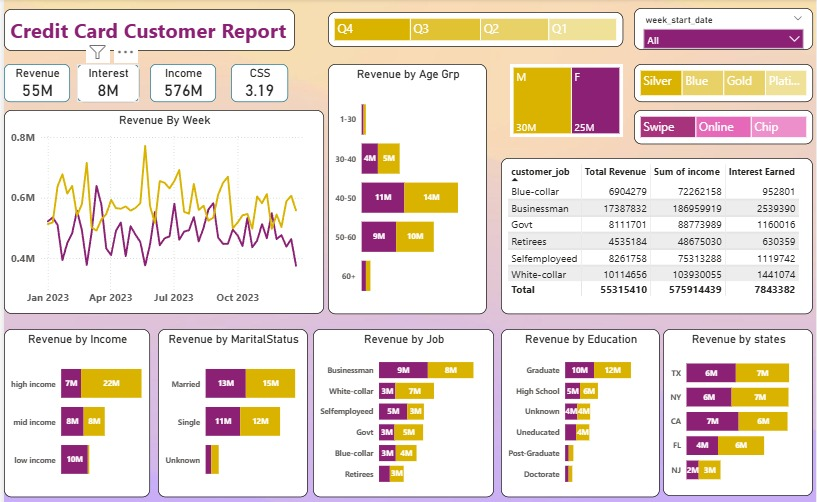

This screenshot's page, from the dashboard's own definition file:
{"tool":"powerbi","page":{"name":"CC customer","canvas":[1280,800],"ordinal":1},"visuals":[{"type":"textbox","box":[0,15.7,458.3,66.1],"z":0},{"type":"barChart","title":" Revenue by Income","fields":{"Y":["Sum(public cc_detail.Revenue)"],"Category":["public cust_detail.income group"],"Series":["public cust_detail.gender"]},"box":[0,519.7,229.9,264.6],"z":1000},{"type":"tableEx","fields":{"Values":["public cust_detail.customer_job","Sum(public cc_detail.Revenue)","Sum(public cust_detail.income)","Sum(public cc_detail.interest_earned)"]},"box":[782.7,250.4,491.3,245.7],"z":2000},{"type":"card","title":"Revenue","fields":{"Values":["Sum(public cc_detail.Revenue)"]},"box":[0,102.4,103.9,59.8],"z":3000},{"type":"card","title":" Interest","fields":{"Values":["Sum(public cc_detail.interest_earned)"]},"box":[115,102.4,97.6,59.8],"z":4000},{"type":"card","title":"Income","fields":{"Values":["Sum(public cust_detail.income)"]},"box":[229.9,102.4,103.9,59.8],"z":5000},{"type":"card","title":"CSS","fields":{"Values":["Avg(public cust_detail.cust_satisfaction_score)"]},"box":[357.5,102.4,89.8,59.8],"z":6000},{"type":"slicer","fields":{"Values":["public cc_detail.week_start_date"]},"box":[992.1,14.2,281.9,66.1],"z":7000},{"type":"treemap","fields":{"Group":["public cc_detail.qtr"],"Values":["Avg(public cc_detail.client_num)"]},"box":[510.2,20.5,464.6,55.1],"z":8000},{"type":"treemap","fields":{"Values":["Avg(public cc_detail.client_num)"],"Group":["public cc_detail.card_category"]},"box":[992.1,102.4,281.9,59.8],"z":10000},{"type":"lineChart","title":" Revenue By Week","fields":{"Y":["Sum(public cc_detail.Revenue)"],"Series":["public cust_detail.gender"],"Category":["public cc_detail.week_start_date.Variation.Date Hierarchy.Year","public cc_detail.week_start_date.Variation.Date Hierarchy.Month","public cc_detail.week_start_date.Variation.Date Hierarchy.Day"]},"box":[0,174.8,503.9,321.3],"z":11001},{"type":"treemap","fields":{"Group":["public cust_detail.gender"],"Values":["Sum(public cc_detail.Revenue)"]},"box":[796.9,102.4,178,115],"z":11002},{"type":"barChart","title":" Revenue by Age Grp","fields":{"Y":["Sum(public cc_detail.Revenue)"],"Category":["public cust_detail.AgeGroup"],"Series":["public cust_detail.gender"]},"box":[510.2,102.4,250.4,393.7],"z":11003},{"type":"barChart","title":" Revenue by Job","fields":{"Y":["Sum(public cc_detail.Revenue)"],"Category":["public cust_detail.customer_job"],"Series":["public cust_detail.gender"]},"box":[486.6,519.7,285,264.6],"z":11004},{"type":"barChart","title":" Revenue by Education","fields":{"Y":["Sum(public cc_detail.Revenue)"],"Category":["public cust_detail.education_level"],"Series":["public cust_detail.gender"]},"box":[782.7,519.7,250.4,264.6],"z":11005},{"type":"barChart","title":" Revenue by states","fields":{"Y":["Sum(public cc_detail.Revenue)"],"Category":["public cust_detail.state_cd"],"Series":["public cust_detail.gender"]},"box":[1037.8,519.7,236.2,263],"z":11006},{"type":"barChart","title":" Revenue by MaritalStatus","fields":{"Y":["Sum(public cc_detail.Revenue)"],"Category":["public cust_detail.marital_status"],"Series":["public cust_detail.gender"]},"box":[242.5,519.7,236.2,264.6],"z":11007},{"type":"treemap","fields":{"Group":["public cc_detail.use_chip"],"Values":["Avg(public cc_detail.client_num)"]},"box":[992.1,174.8,281.9,53.5],"z":11008}]}

Visuals, with their boxes in screenshot pixels (x1, y1, x2, y2), scaled from the page's 1280x800 canvas onto the 817x502 screenshot:
textbox: x1=0, y1=10, x2=293, y2=51
" Revenue by Income" barChart: x1=0, y1=326, x2=147, y2=492
tableEx - public cust_detail.customer_job x Sum(public cc_detail.Revenue): x1=500, y1=157, x2=813, y2=311
"Revenue" card: x1=0, y1=64, x2=66, y2=102
" Interest" card: x1=73, y1=64, x2=136, y2=102
"Income" card: x1=147, y1=64, x2=213, y2=102
"CSS" card: x1=228, y1=64, x2=286, y2=102
slicer - public cc_detail.week_start_date: x1=633, y1=9, x2=813, y2=50
treemap - public cc_detail.qtr x Avg(public cc_detail.client_num): x1=326, y1=13, x2=622, y2=47
treemap - Avg(public cc_detail.client_num) x public cc_detail.card_category: x1=633, y1=64, x2=813, y2=102
" Revenue By Week" lineChart: x1=0, y1=110, x2=322, y2=311
treemap - public cust_detail.gender x Sum(public cc_detail.Revenue): x1=509, y1=64, x2=622, y2=136
" Revenue by Age Grp" barChart: x1=326, y1=64, x2=485, y2=311
" Revenue by Job" barChart: x1=311, y1=326, x2=492, y2=492
" Revenue by Education" barChart: x1=500, y1=326, x2=659, y2=492
" Revenue by states" barChart: x1=662, y1=326, x2=813, y2=491
" Revenue by MaritalStatus" barChart: x1=155, y1=326, x2=306, y2=492
treemap - public cc_detail.use_chip x Avg(public cc_detail.client_num): x1=633, y1=110, x2=813, y2=143
